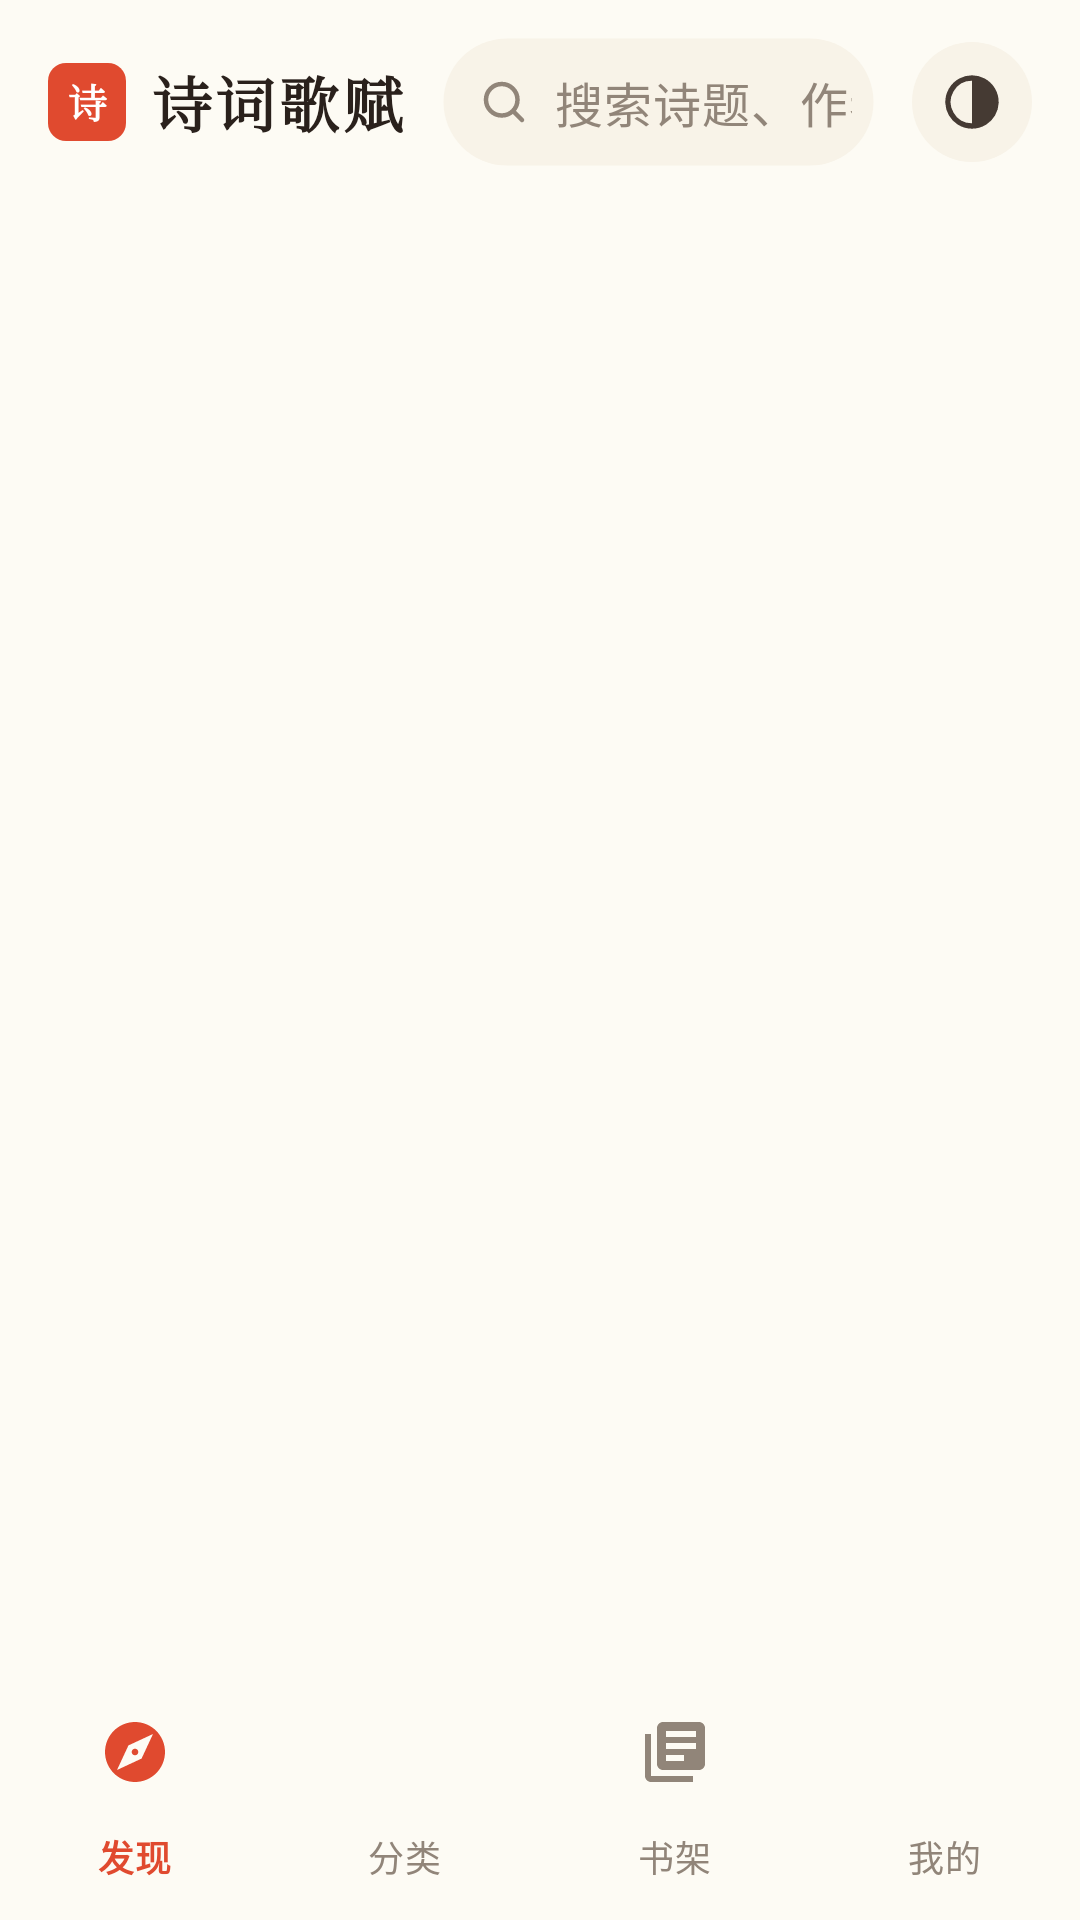

Screen size 1080w x 1920h. Icon name, then its center in pixels as point (x, y):
切换深浅色: point (972, 102)
搜索诗词: point (503, 102)
